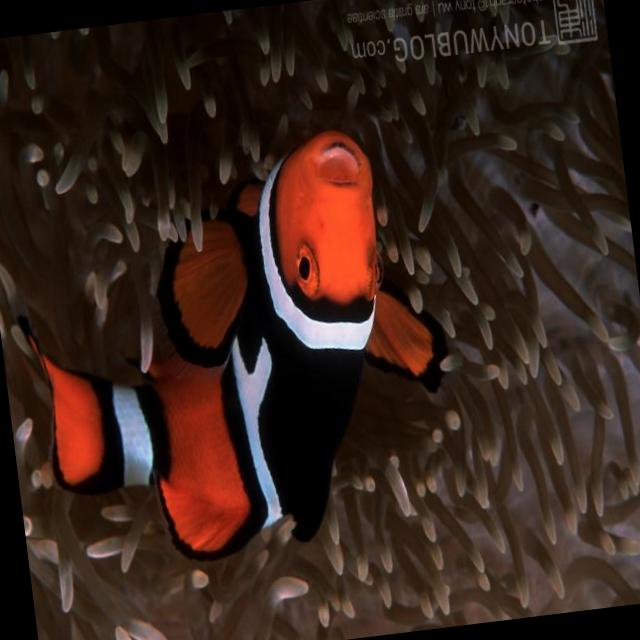ClownFish: (0, 116, 469, 581)
